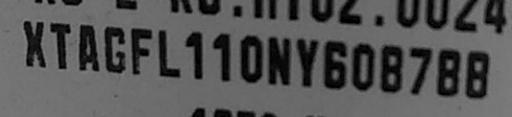letter: (461, 47, 495, 100), (404, 45, 434, 96), (20, 16, 48, 69), (208, 32, 236, 85), (436, 45, 462, 100), (154, 28, 182, 79), (265, 34, 293, 85), (348, 41, 376, 92), (182, 29, 208, 82), (74, 23, 102, 72), (296, 38, 322, 89), (376, 42, 402, 93), (48, 18, 72, 71), (129, 26, 153, 77), (323, 40, 347, 91), (104, 24, 128, 73), (238, 34, 262, 83)
